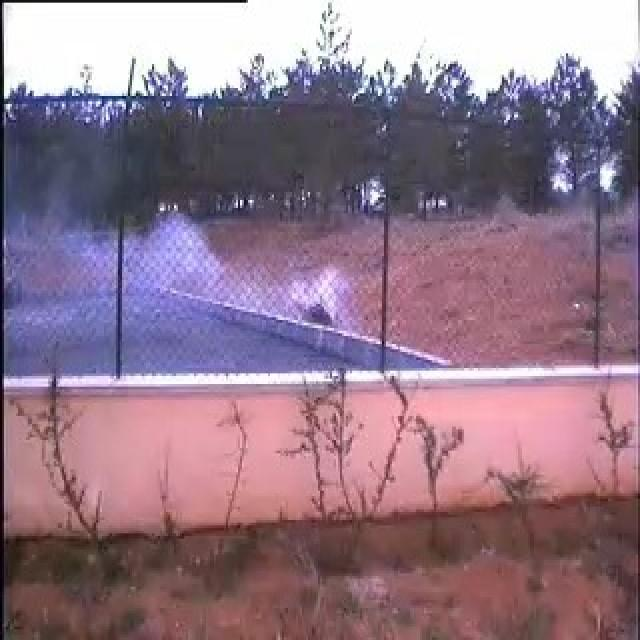smoke: (79, 194, 350, 363)
